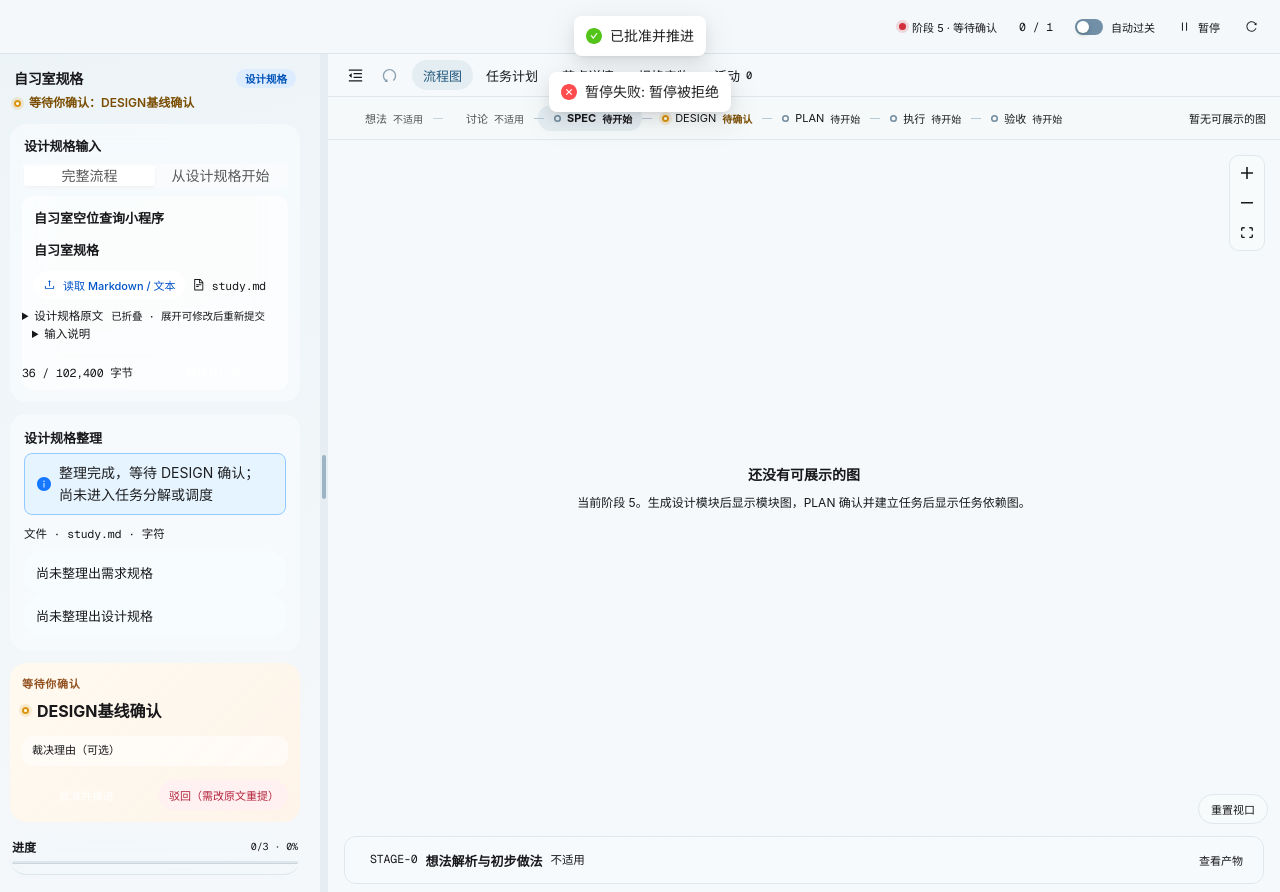
Test case: Workstation buttons follow backend status › shows success feedback for pause, resume, approve, and reject
Later steps or results of the test are not shown.
Click the button with test id "run-pause-resume" at (1200, 26), box [1169,12,1230,42]
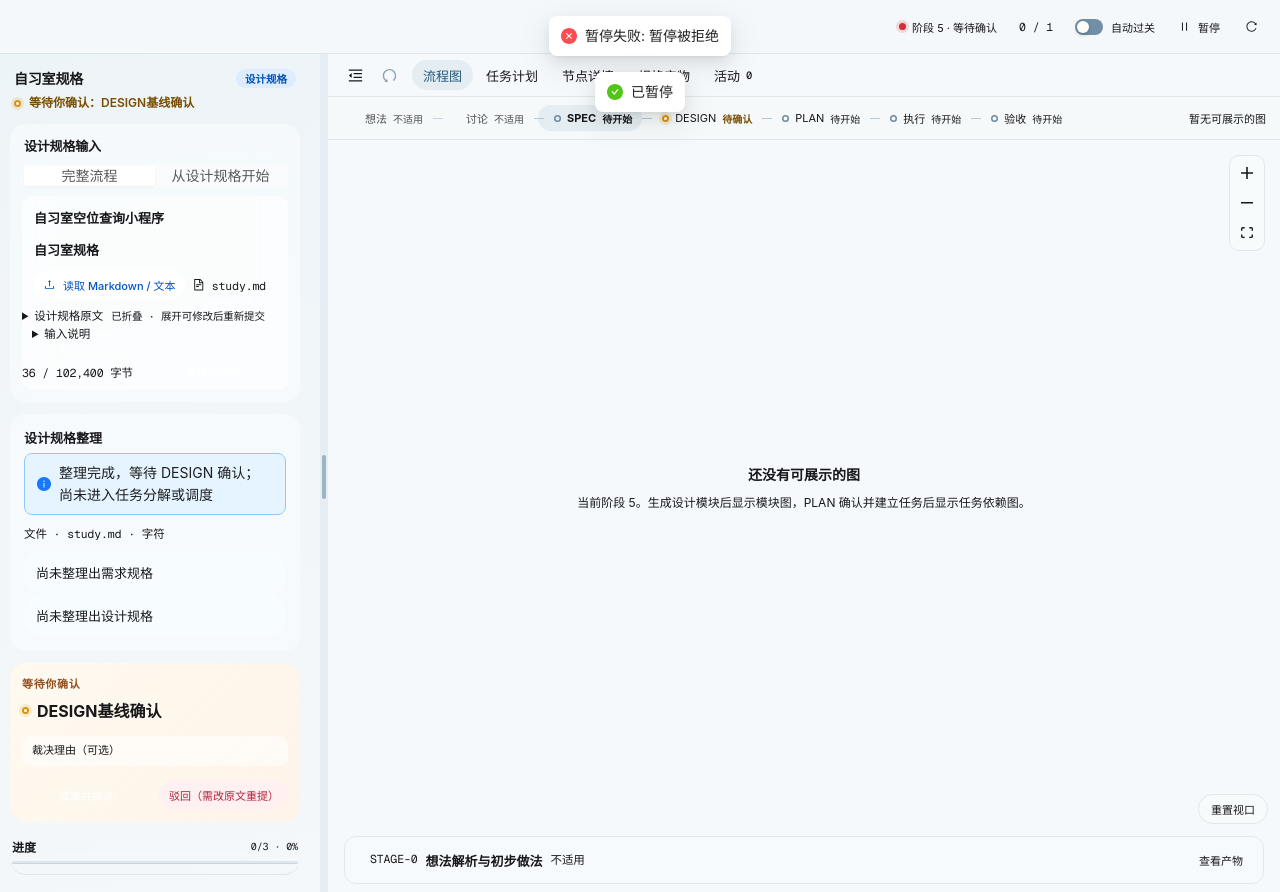
Click the button named "刷新" at (1251, 26), box [1236,12,1266,42]
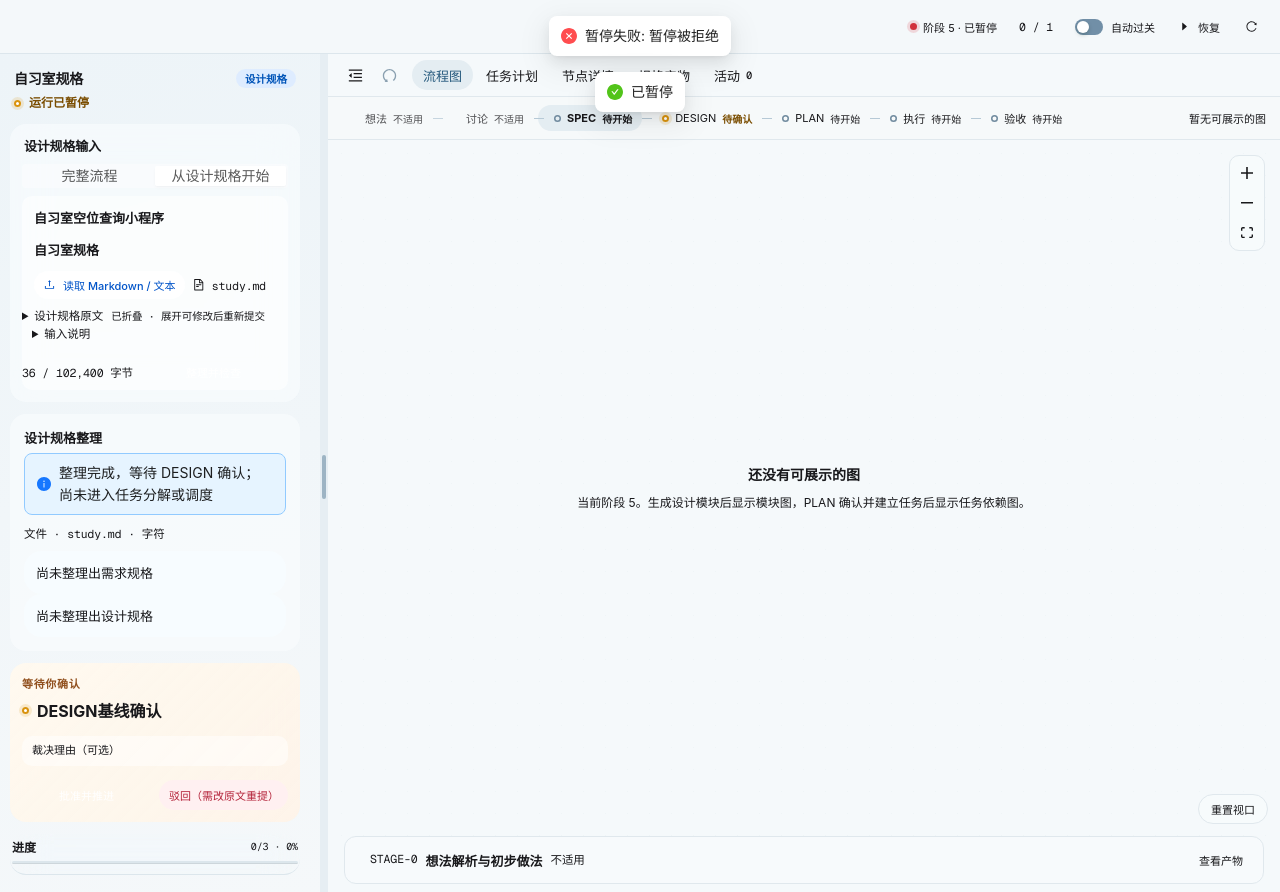
Result: the button with test id "run-pause-resume" has attribute aria-label="恢复" at [1169,12,1230,42]
